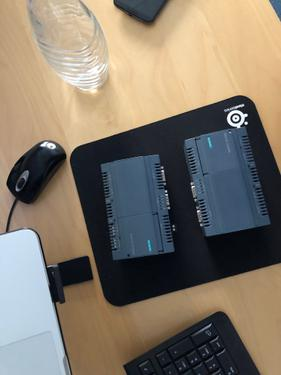device: (184, 127, 271, 237), (101, 155, 178, 261)
